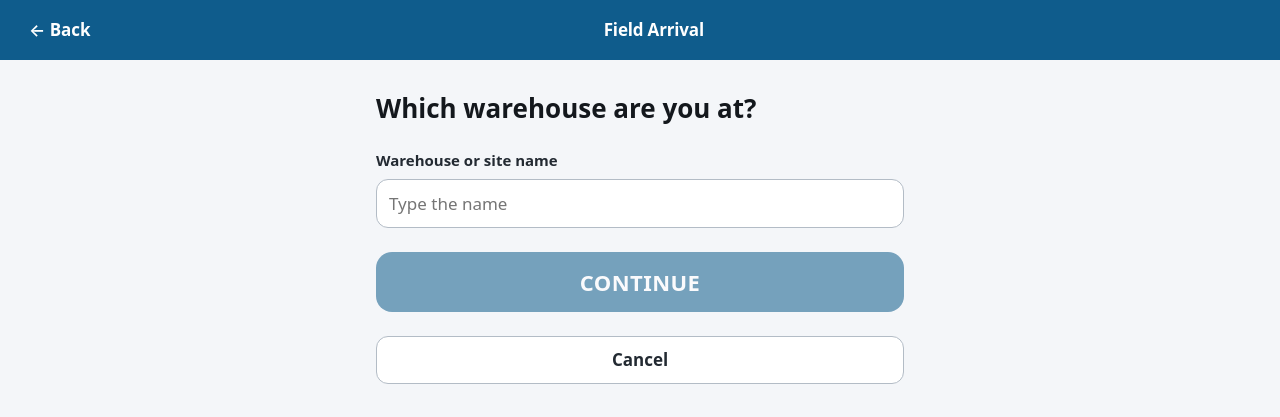
Test: RecordEventPage › lets an employee type a warehouse that is not on any list
The image size is (1280, 417).
Type "Somewhere New" into the field labelled "Warehouse or site name" at coordinates (640, 204), box x1=376 y1=179 x2=904 y2=228
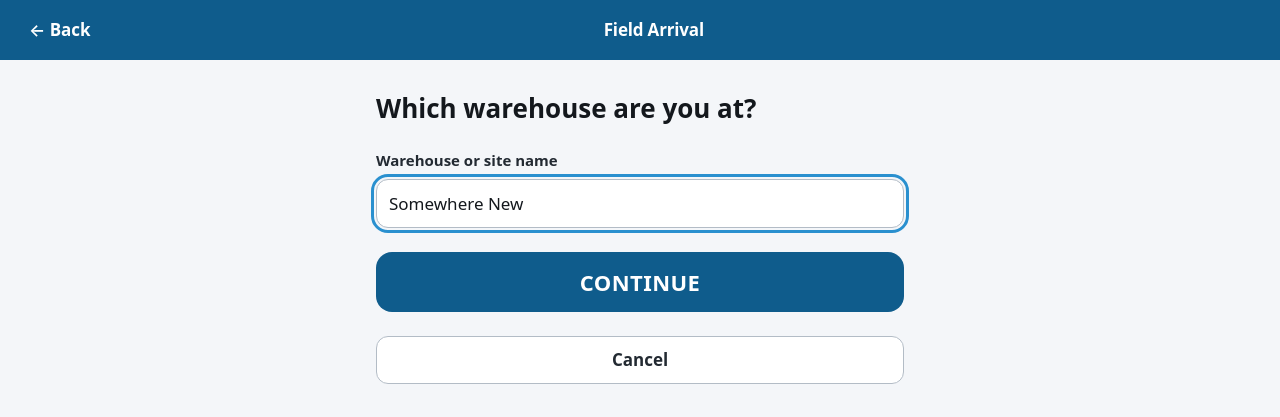
Click the button "CONTINUE" at coordinates (640, 282), box x1=376 y1=252 x2=904 y2=312
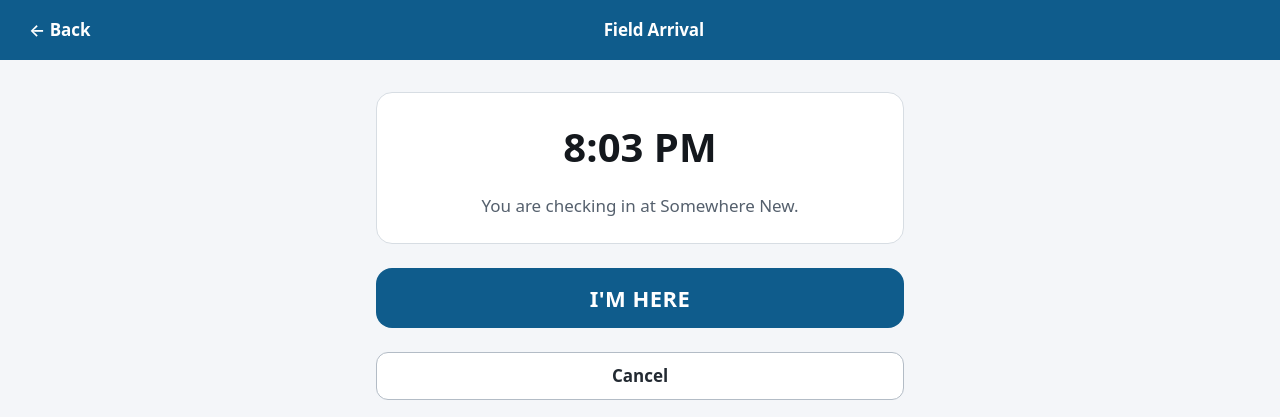
Check: the text "You are checking in at Somewhere New." is shown, box x1=481 y1=194 x2=799 y2=217
